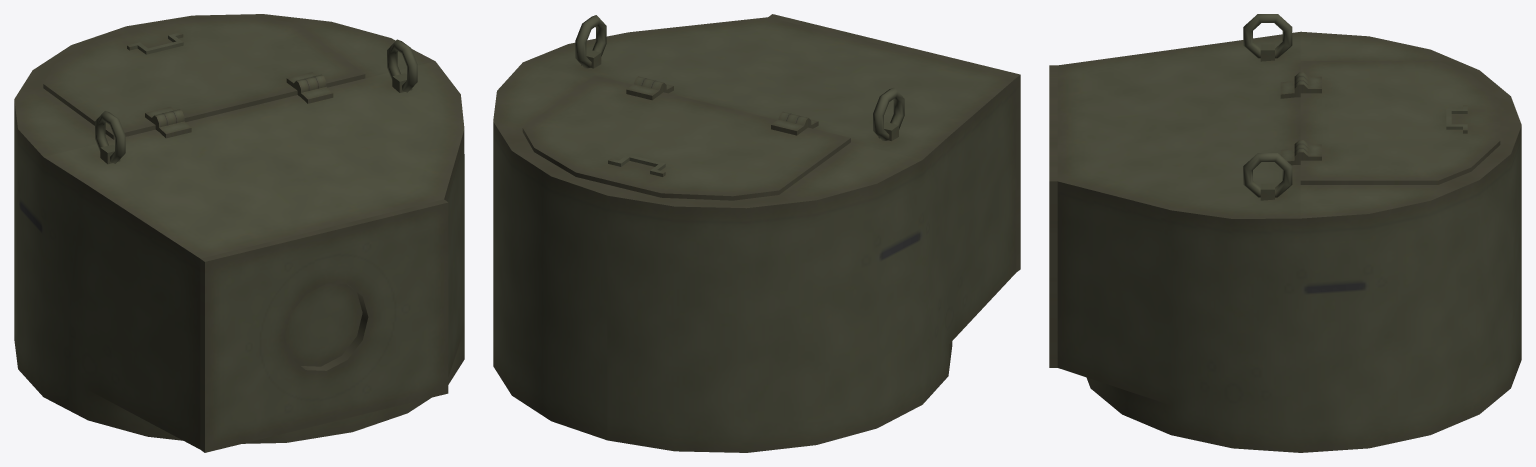
The model's file is T-35_Turret_Small.fbx.
3 views of the same model, side by side, from view 1: azimuth 30°, elevation 25°; view 2: azimuth 150°, elevation 25°; view 3: azimuth 270°, elevation 25° (orthographic). The views are drawn at different scales.
Visible parts, largest first — view 1: T-35_Turret_Small; view 2: T-35_Turret_Small; view 3: T-35_Turret_Small.
Boxes of the visible parts, left/top/right/bottom form: T-35_Turret_Small: left=14, top=14, right=464, bottom=452; T-35_Turret_Small: left=493, top=14, right=1020, bottom=452; T-35_Turret_Small: left=1049, top=14, right=1521, bottom=452.
Bounding box in the file's own units: 0.94 × 0.6476 × 1.01.
